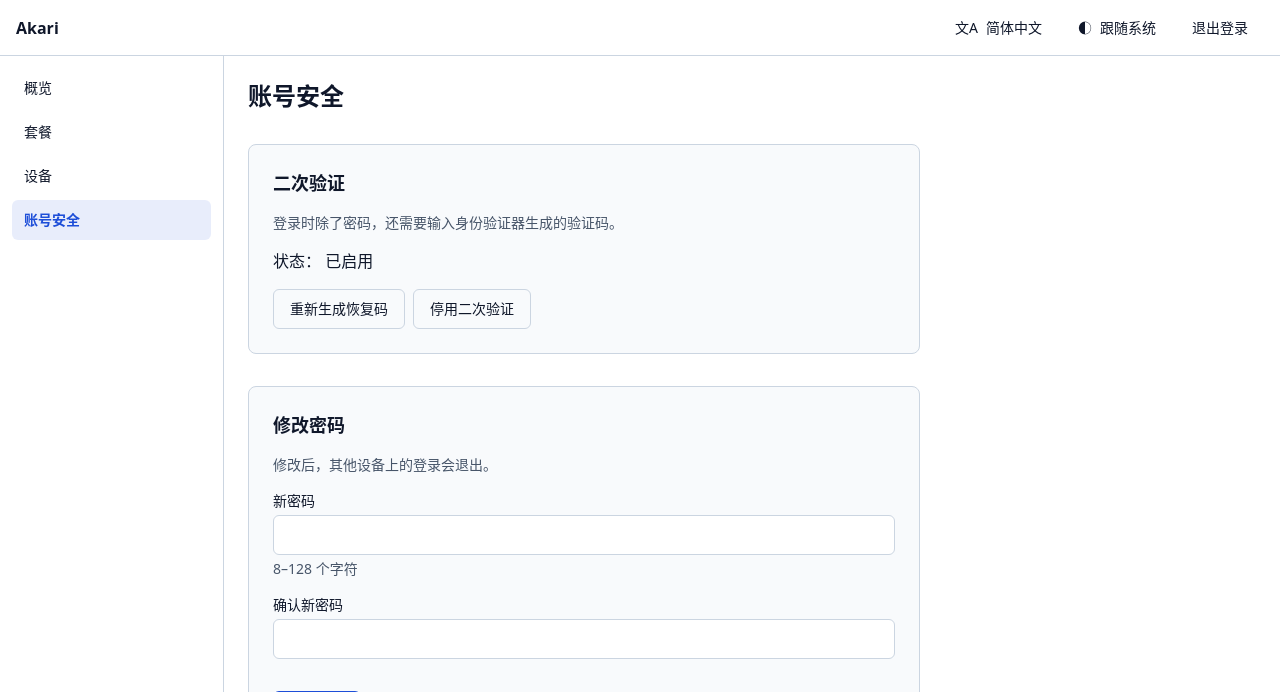
Test case: 需要重新验证的操作 › 可以改用 TOTP 验证码；取消时不显示错误
The image size is (1280, 692).
Click the button "重新生成恢复码" at (339, 309), box [273,289,405,329]
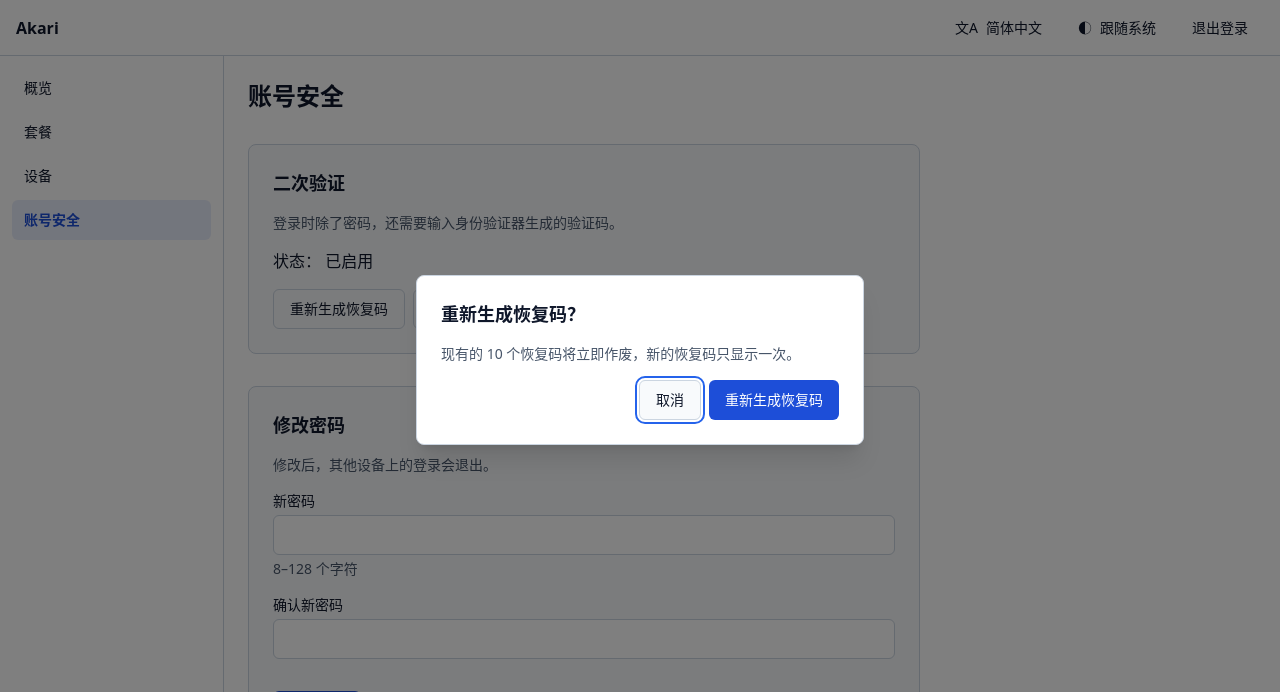
Expected: the dialog "重新生成恢复码？" shows "现有的 10 个恢复码将立即作废", [441,344,800,363]
Click the button "重新生成恢复码" at (774, 400), box [709,380,839,420]
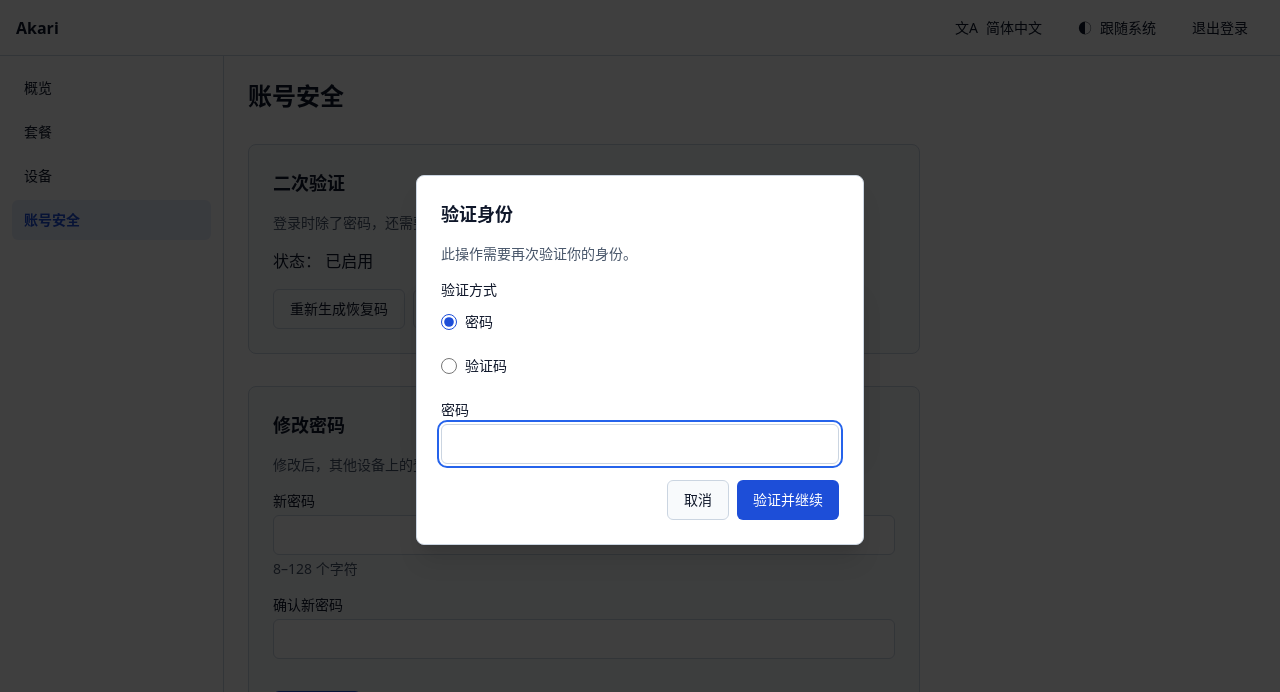
Click the radio button labelled "验证码" at (449, 366), box [441,358,457,374]
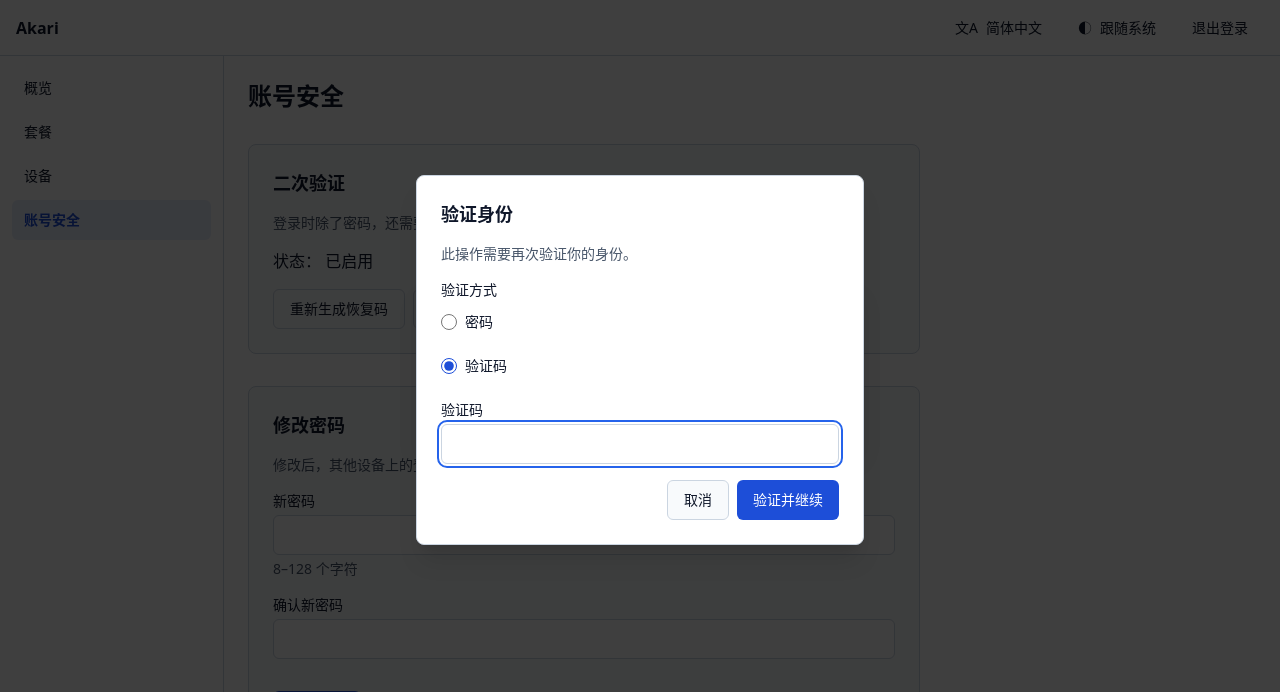
Type "12" into the field labelled "验证码" at (640, 444), box [441,424,839,464]
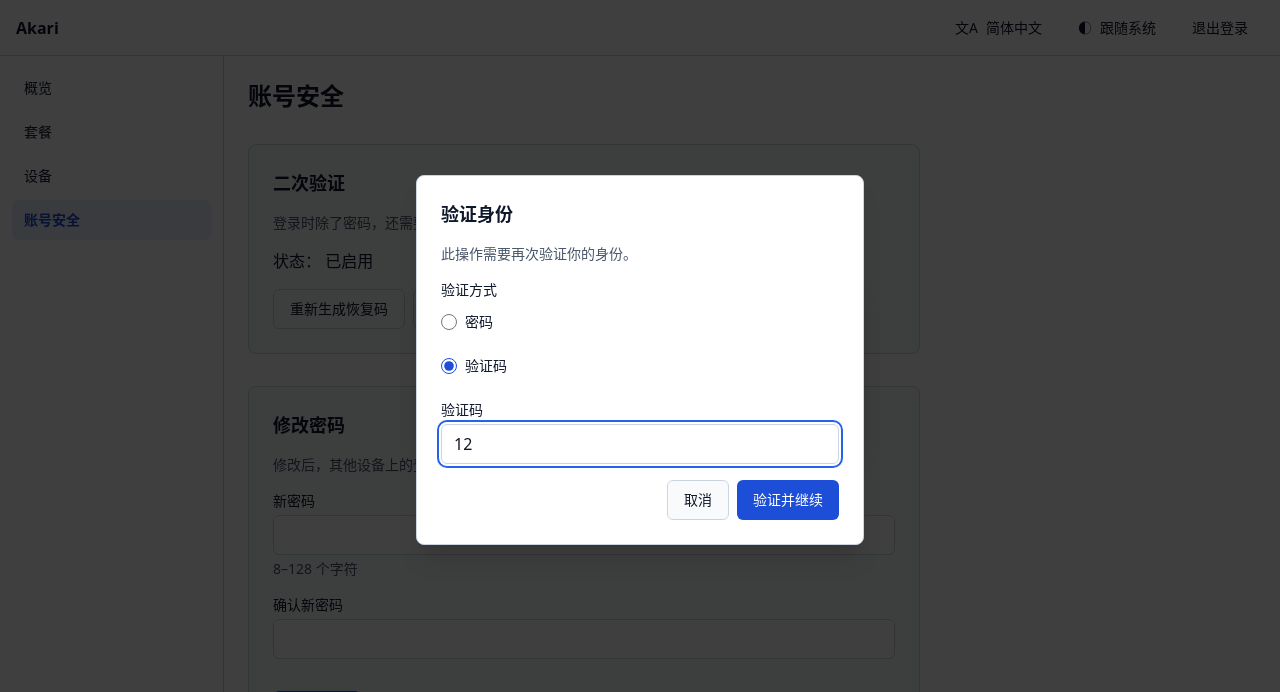
Click the button "验证并继续" at (788, 500), box [737,480,839,520]
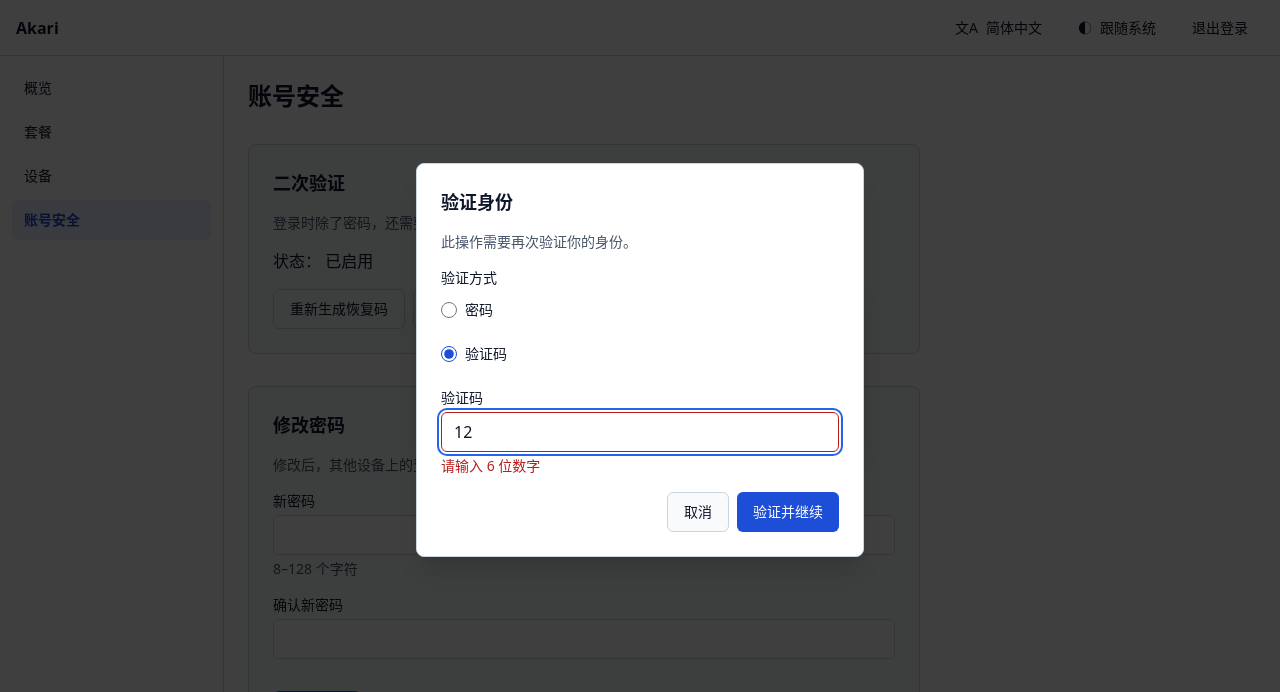
Click the button "取消" at (698, 512), box [667,492,729,532]
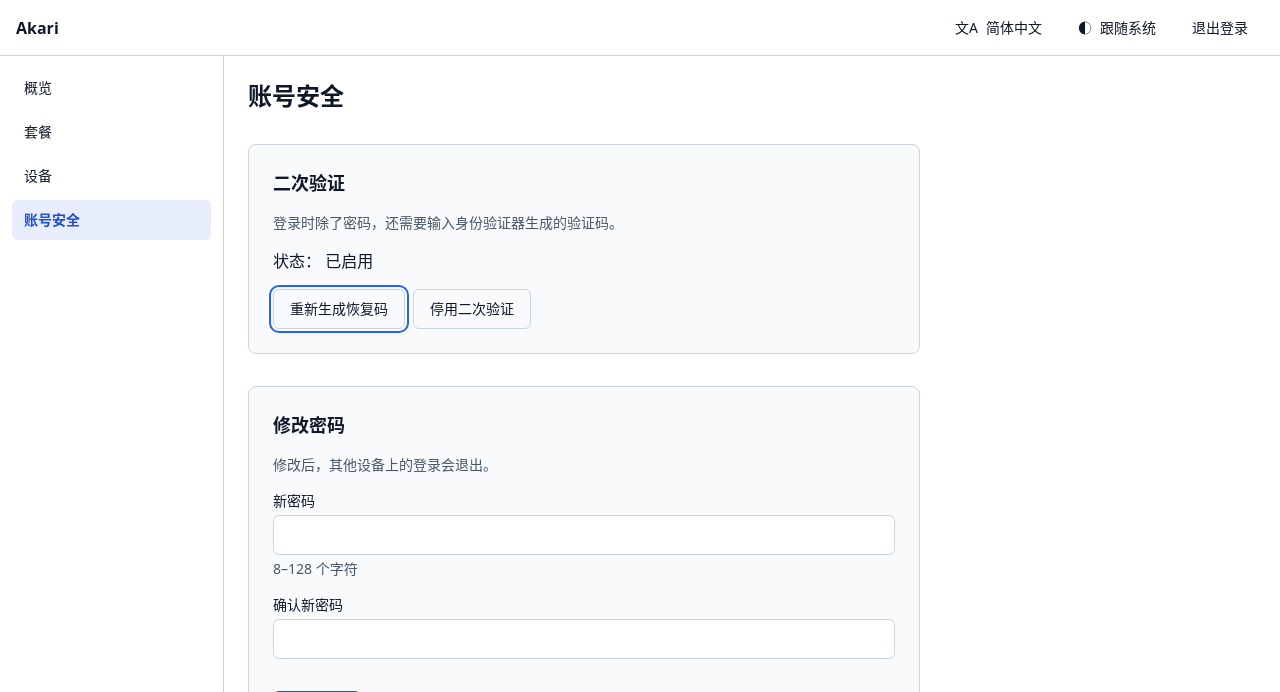
Expected: the dialog is gone
